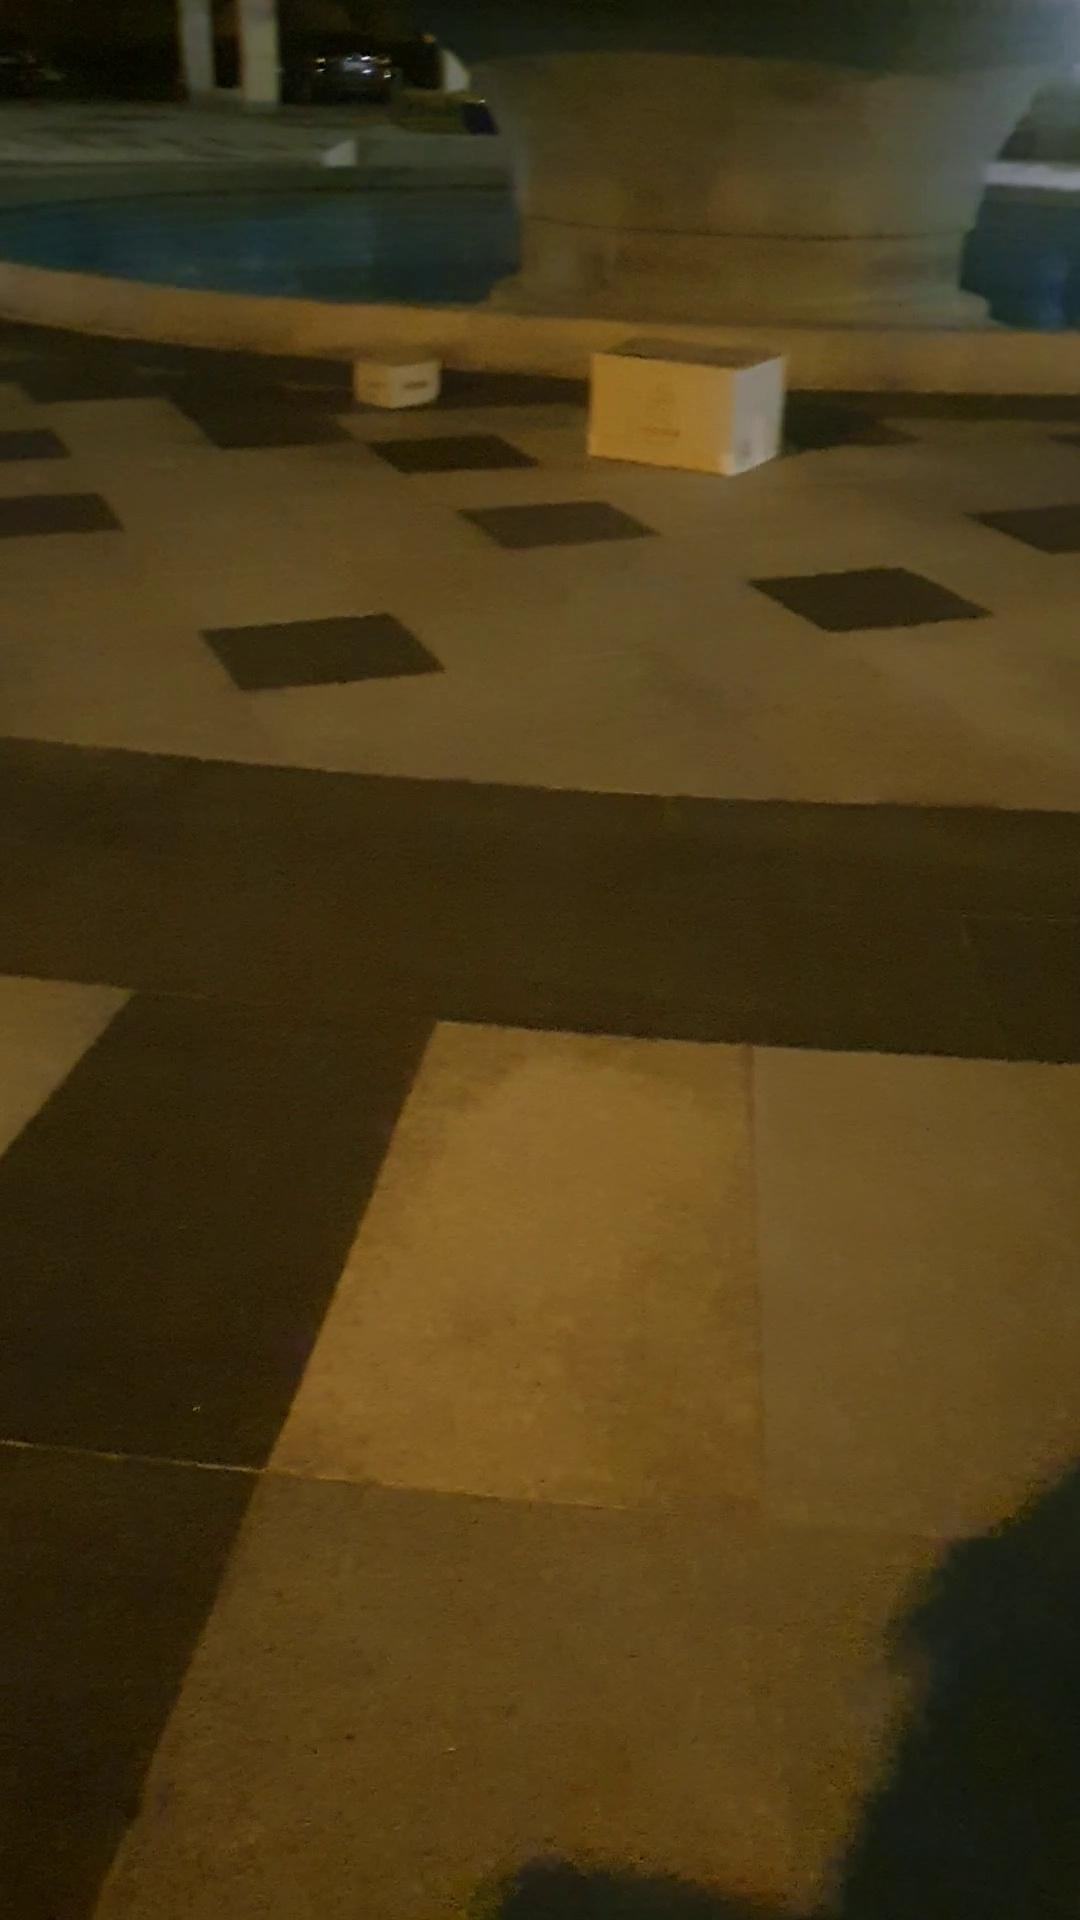Box: (524, 328, 818, 495), (334, 323, 462, 425)
